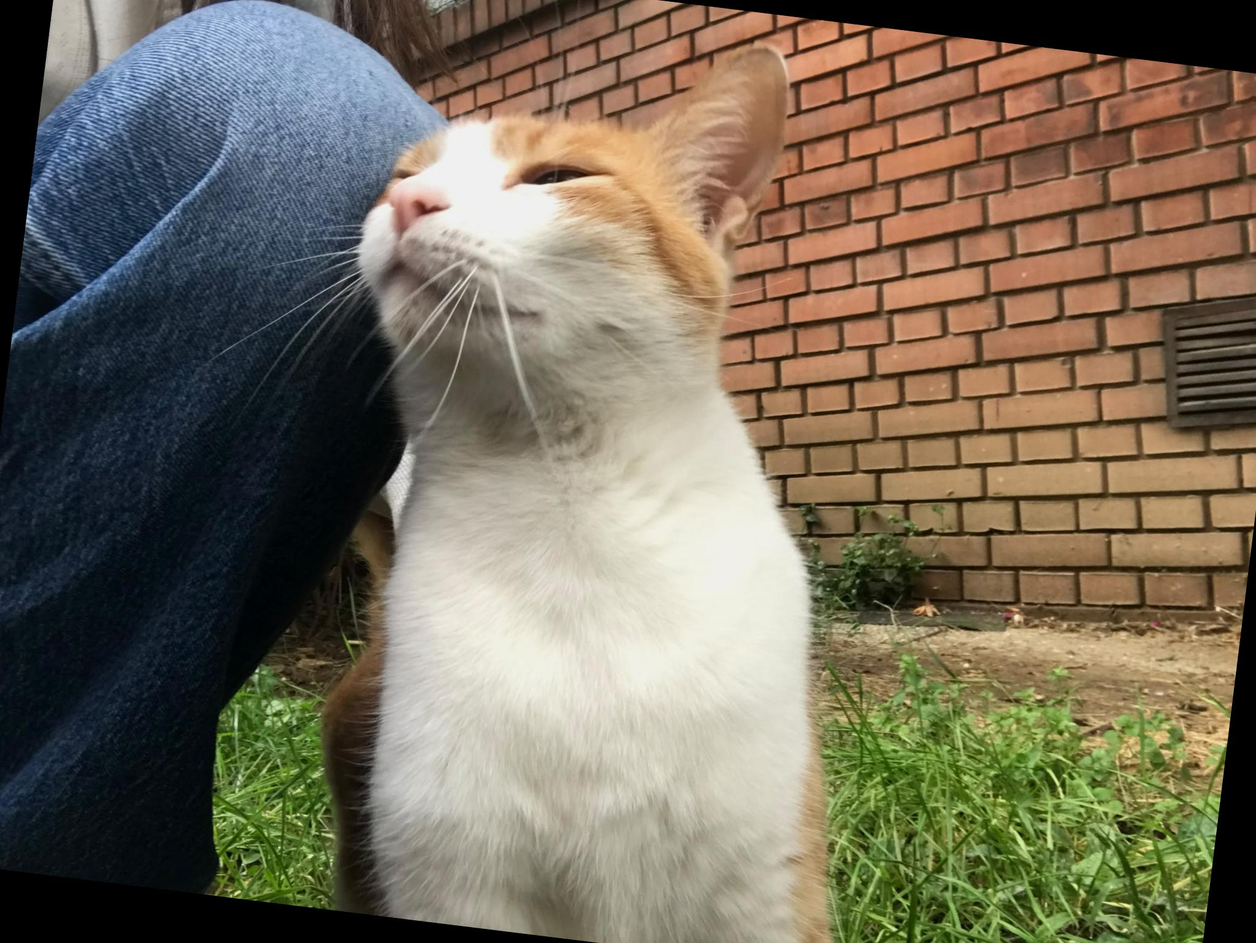macka: (272, 0, 948, 943)
